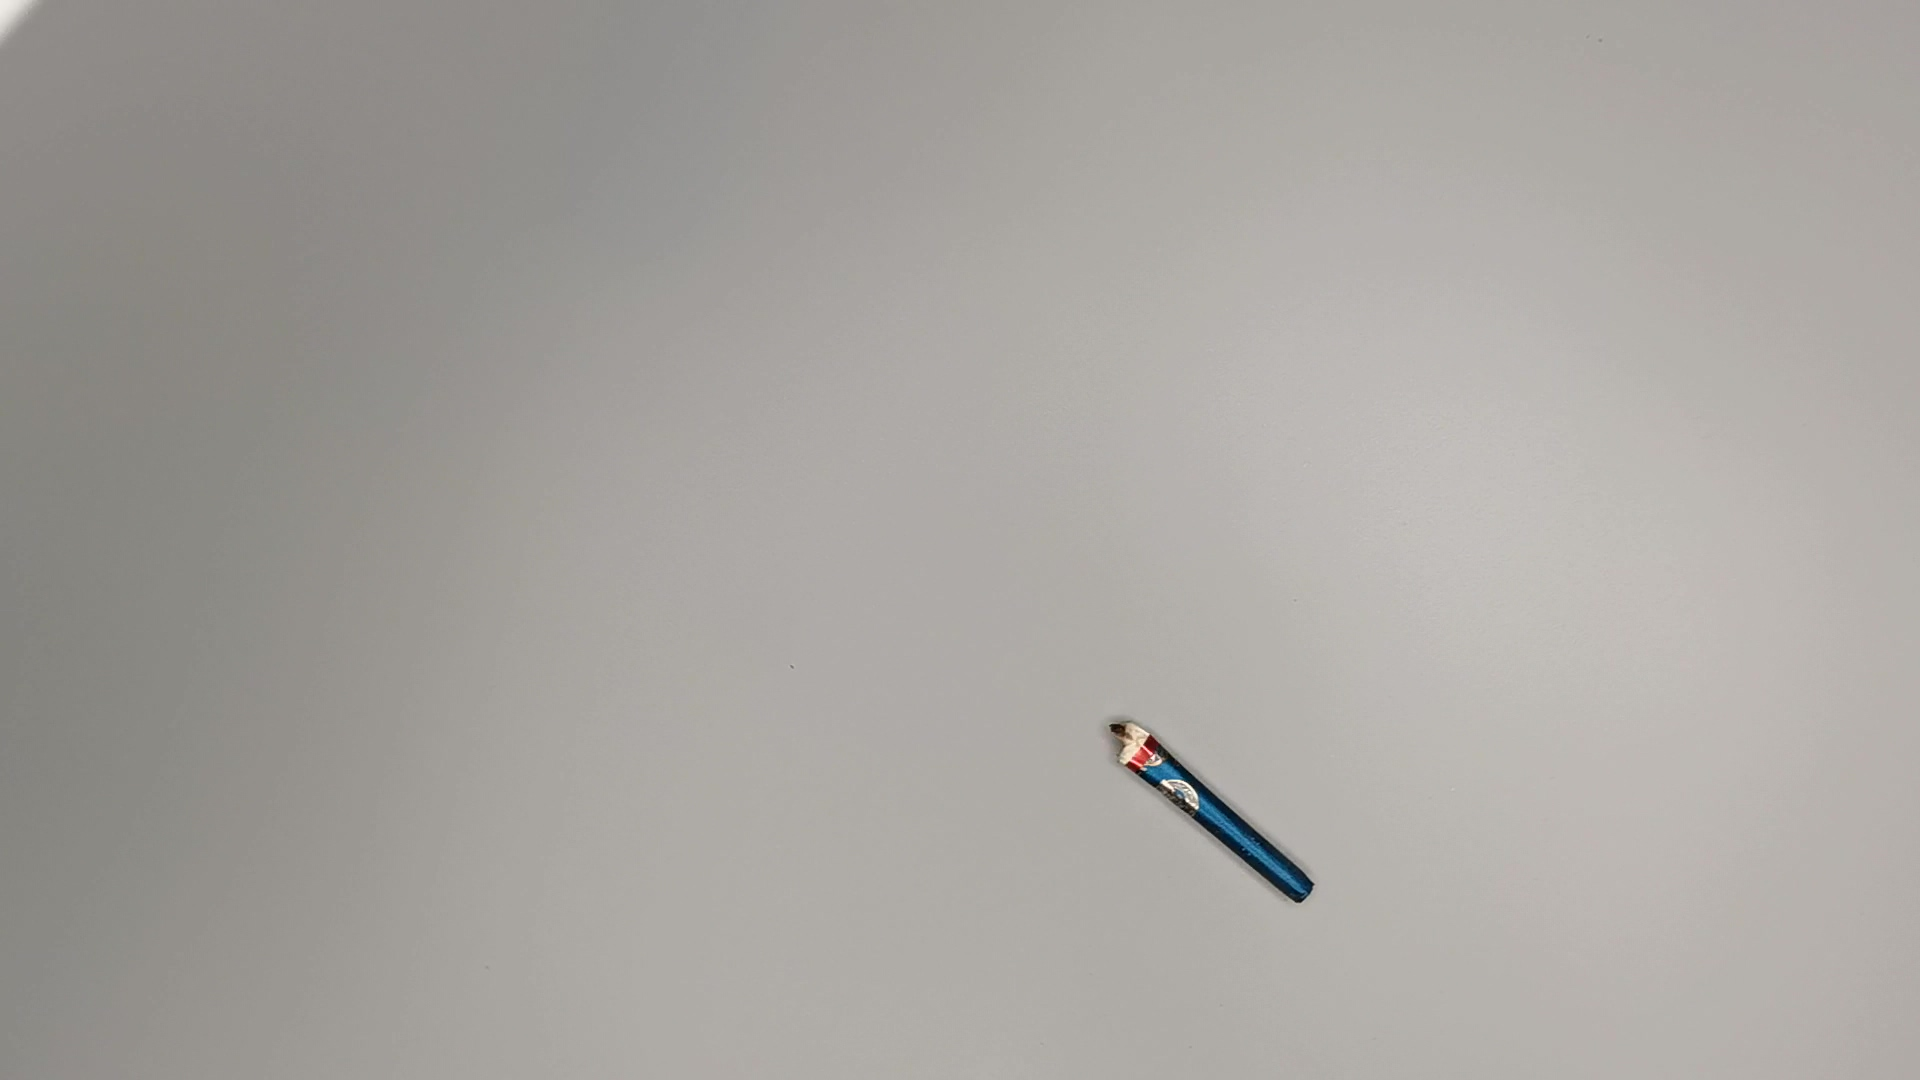cigarette: (1108, 723, 1327, 913)
